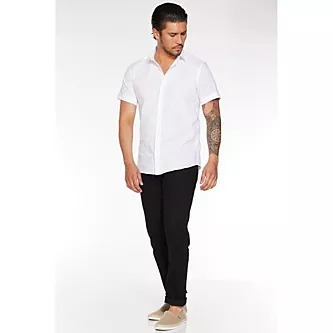S_shirt: (117, 49, 222, 175)
